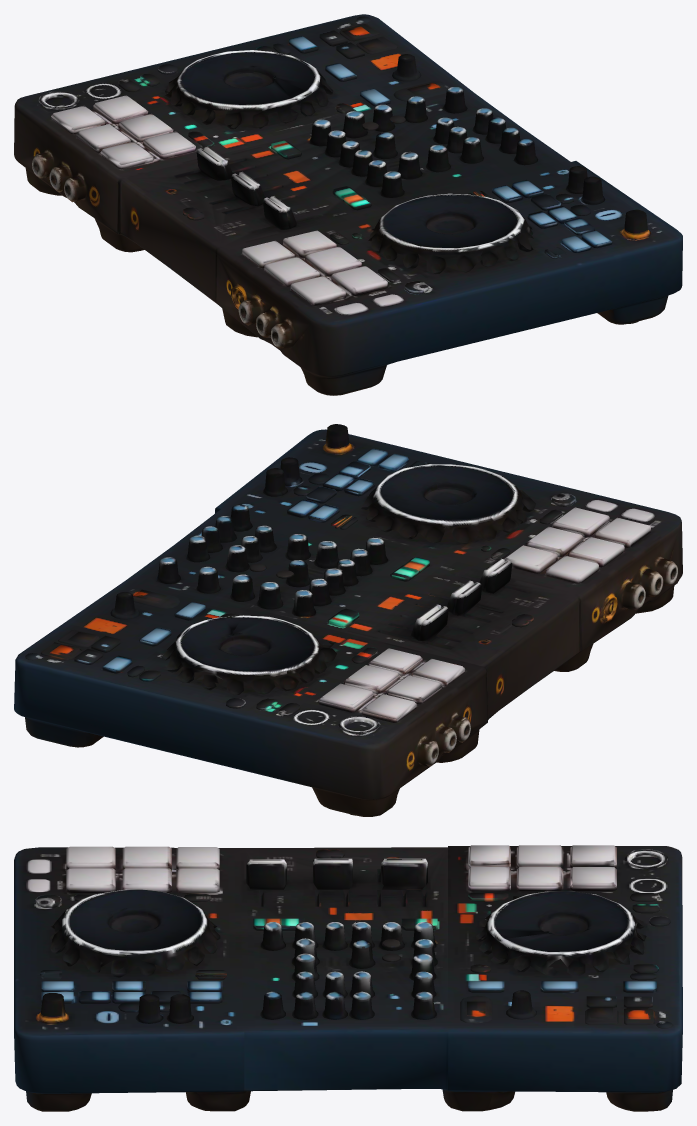
The model's file is dj_mixer_baeeec4e_v4.glb.
3 views of the same model, one above another, from view 1: azimuth 30°, elevation 25°; view 2: azimuth 150°, elevation 25°; view 3: azimuth 270°, elevation 25° (orthographic). The views are drawn at different scales.
Visible parts, largest first — view 1: material; view 2: material; view 3: material.
Boxes of the visible parts, bbox=[...] form: material: bbox=[14, 14, 682, 395]; material: bbox=[14, 424, 682, 816]; material: bbox=[14, 845, 682, 1111].
Size of the model in its own units: 1.35 by 0.3535 by 1.9.
Materials: 1 (1 with a texture image).
